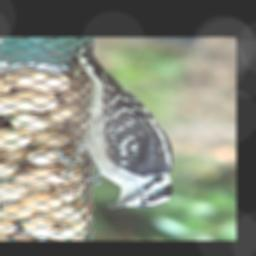Woodpecker: (54, 42, 190, 212)
